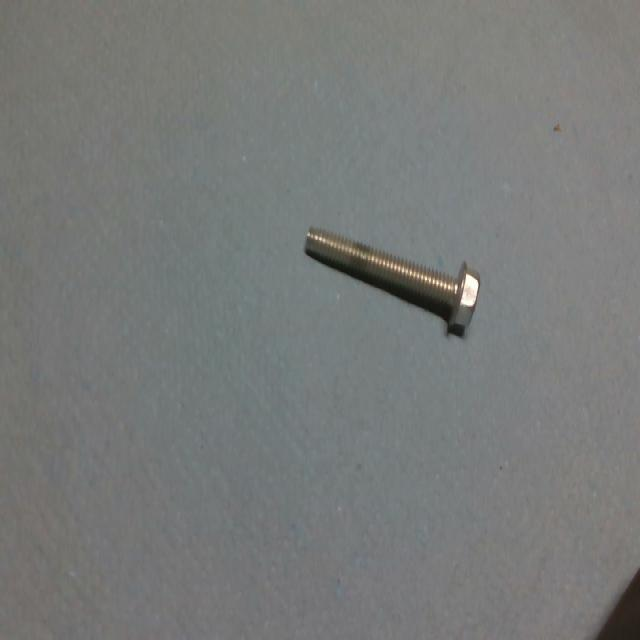Bolt: (303, 227, 479, 332)
